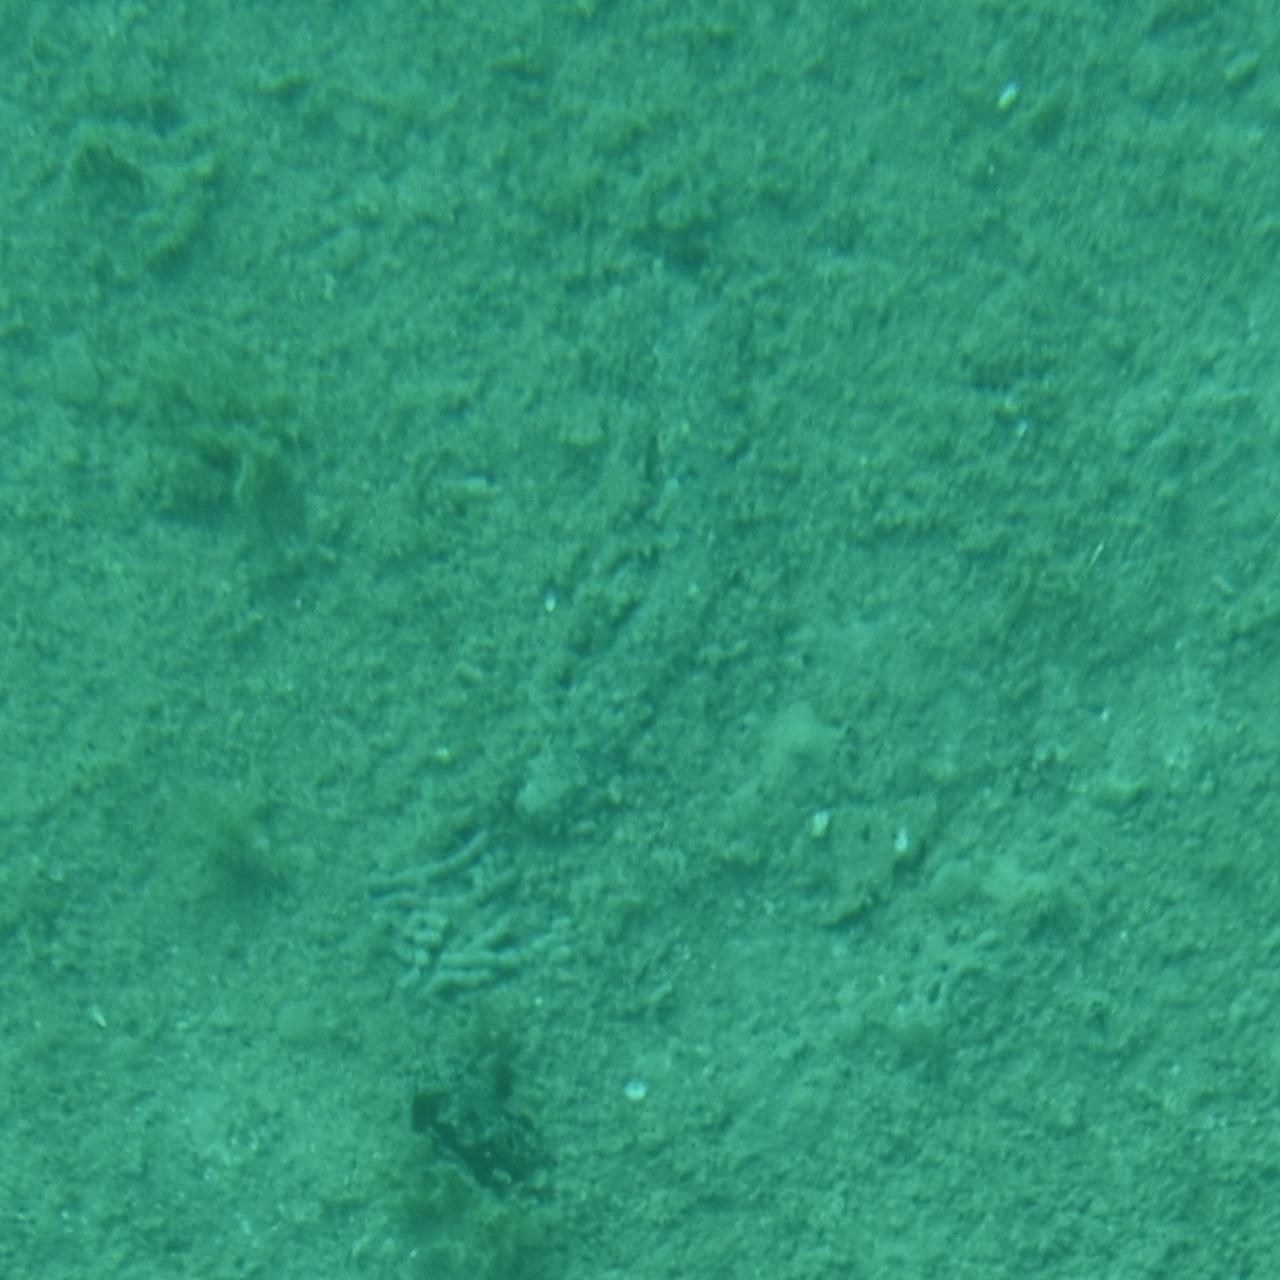Holothuria tubulosa: (498, 119, 782, 835)
